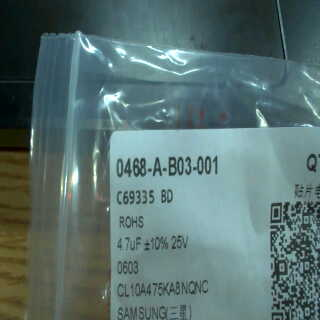4.7uF: (114, 233, 142, 255)
